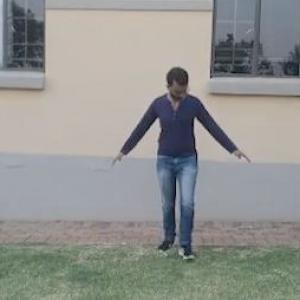land: (94, 40, 253, 276)
